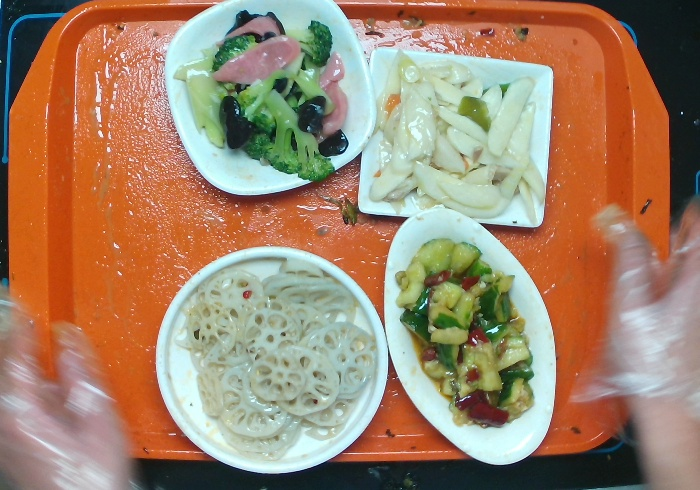HZYJPL-Si_Fang_Die: (356, 39, 555, 233)
HZYJPL-Si_Fang_Yuan_Die: (163, 4, 377, 195)
HZYJPL-Xiao_Yu_Die: (381, 205, 560, 467)
HZYJPL-Xiao_Yuan_Die: (152, 244, 389, 478)
